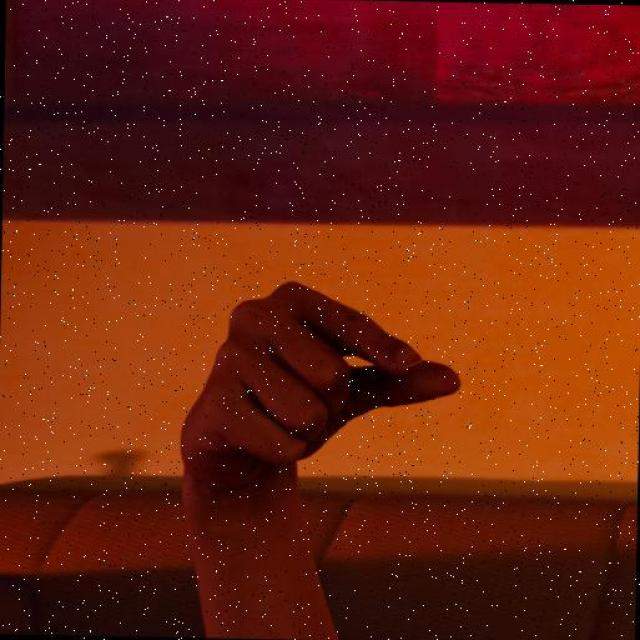G: (177, 279, 464, 499)
